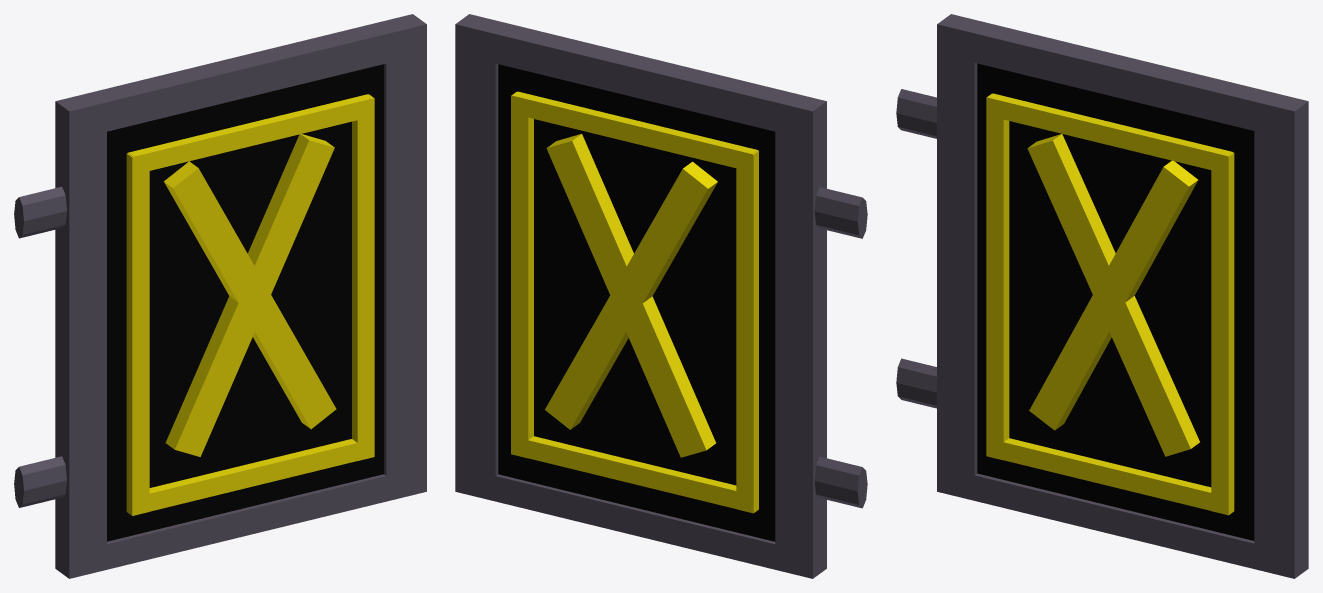
File: Neon_Cross_large.fbx
3 views of the same model, side by side, from view 1: azimuth 30°, elevation 25°; view 2: azimuth 150°, elevation 25°; view 3: azimuth 330°, elevation 25° (orthographic).
Parts seen in each view (by area): view 1: NeonSign_Large1, Neon_Cross_large; view 2: NeonSign_Large1, Neon_Cross_large; view 3: NeonSign_Large1, Neon_Cross_large.
Boxes of the visible parts, left/top/right/bottom form: NeonSign_Large1: left=14, top=14, right=426, bottom=578; Neon_Cross_large: left=126, top=94, right=374, bottom=515; NeonSign_Large1: left=455, top=14, right=867, bottom=578; Neon_Cross_large: left=511, top=91, right=758, bottom=513; NeonSign_Large1: left=896, top=14, right=1308, bottom=578; Neon_Cross_large: left=986, top=93, right=1234, bottom=515.
Size of the model in its own units: 3.31 by 3.69 by 0.4081.
